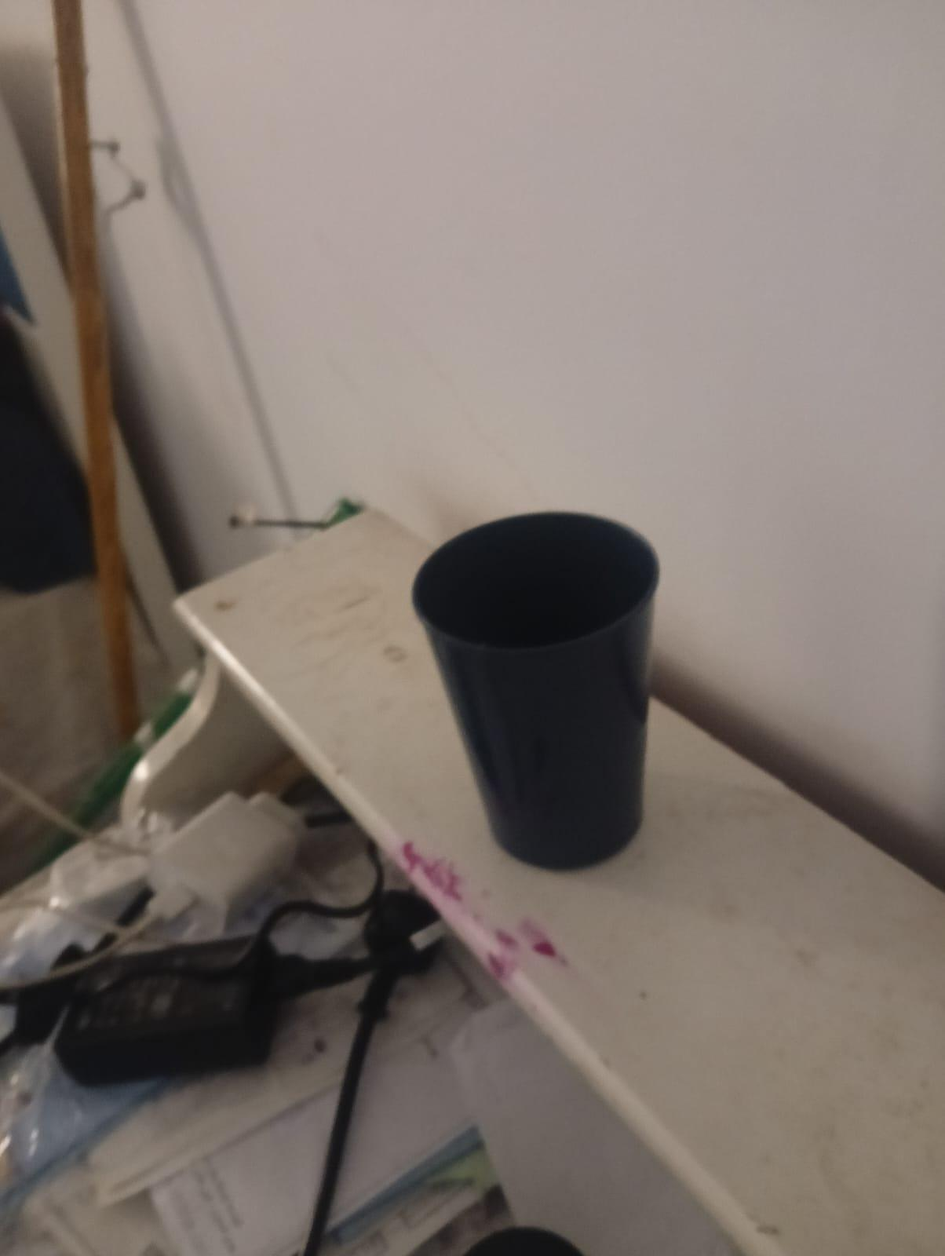cup: (412, 512, 659, 870), (414, 531, 654, 640)
